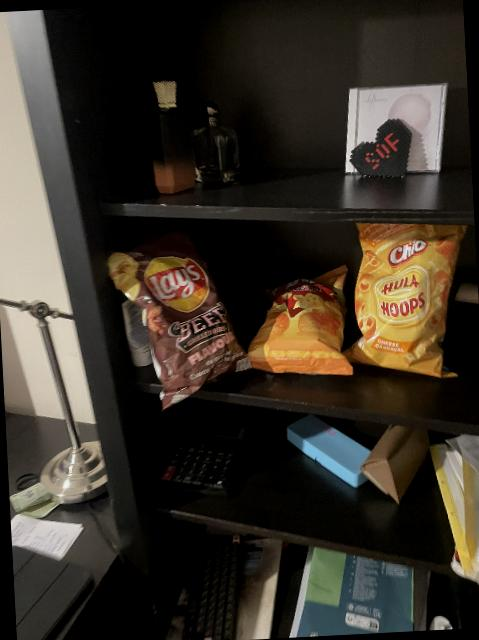Chio Cascaval 125g: (239, 267, 349, 382)
Chio Hula Hoops Cheese 70g: (344, 222, 476, 385)
Lays Beef Grilled Ribs 125g: (106, 228, 254, 409)
